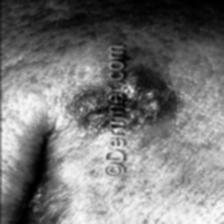Toxin: (124, 65, 171, 134), (66, 80, 108, 138)
